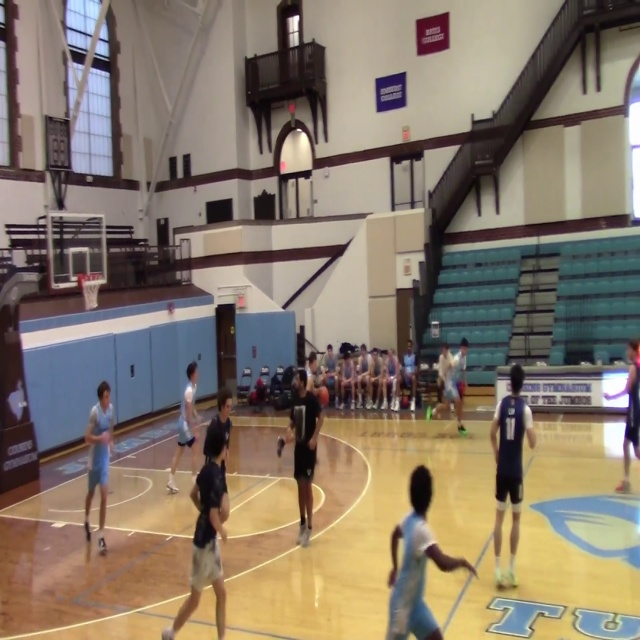Basketball: (317, 386, 329, 407), (434, 403, 449, 419)
